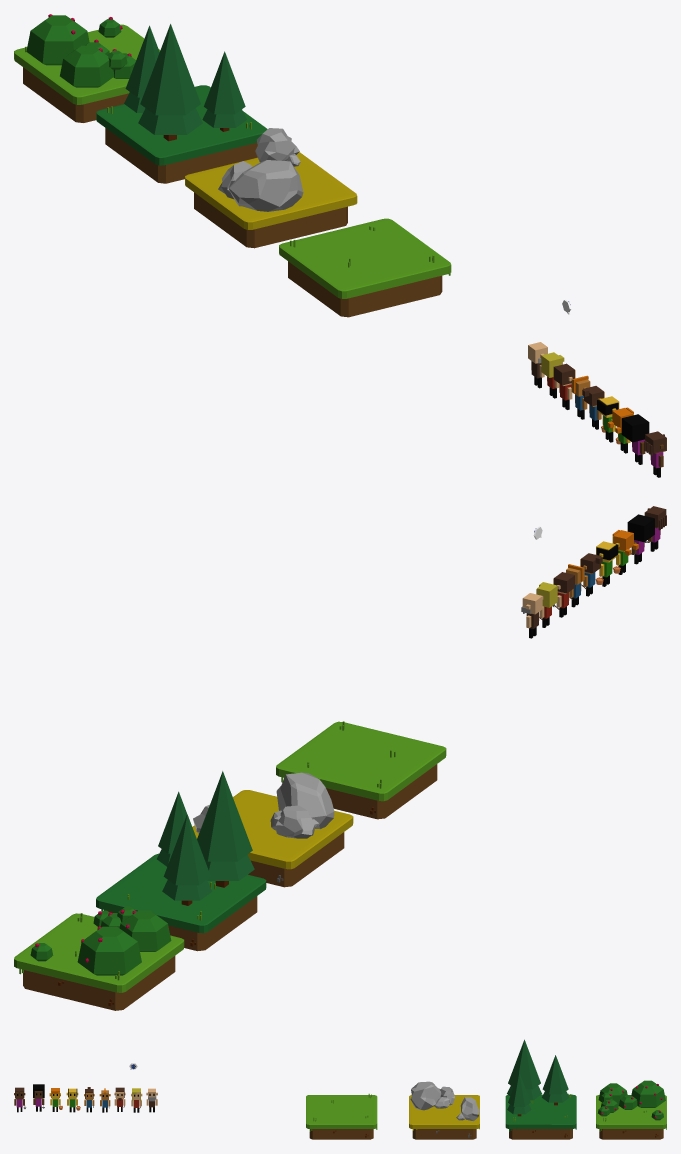
File: emotes-working.fbx
The picture shows the model from 3 angles, top to bottom: view 1: azimuth 30°, elevation 25°; view 2: azimuth 150°, elevation 25°; view 3: azimuth 270°, elevation 25°; orthographic projection. The views are drawn at different scales.
Visible parts, largest first — view 1: Tile 1.005, Cube.141, Cube.117, Cube.182, Cube.082, Cube.105; view 2: Tile 1.005, Cube.182, Cube.117, Cube.141, Cube.082; view 3: Tile 1.005, Cube.182, Cube.141, Cube.117, Cube.082, Cube.058, Cube.105, Cube.010, Cube.002, Cube.109, Cube.053, Cube.041 (+1 smaller).
Boxes of the visible parts, left/top/right/bottom form: Tile 1.005: left=96, top=24, right=267, bottom=183; Cube.141: left=185, top=128, right=357, bottom=248; Cube.117: left=279, top=218, right=451, bottom=317; Cube.182: left=14, top=14, right=160, bottom=122; Cube.082: left=621, top=414, right=649, bottom=464; Cube.105: left=644, top=431, right=666, bottom=477; Tile 1.005: left=96, top=771, right=266, bottom=951; Cube.182: left=14, top=906, right=184, bottom=1010; Cube.117: left=276, top=721, right=446, bottom=819; Cube.141: left=192, top=772, right=353, bottom=887; Cube.082: left=627, top=514, right=654, bottom=564; Tile 1.005: left=505, top=1039, right=576, bottom=1139; Cube.182: left=596, top=1080, right=666, bottom=1139; Cube.141: left=409, top=1081, right=479, bottom=1139; Cube.117: left=306, top=1093, right=377, bottom=1139; Cube.082: left=33, top=1084, right=44, bottom=1111; Cube.058: left=66, top=1088, right=80, bottom=1112; Cube.105: left=14, top=1087, right=26, bottom=1112; Cube.010: left=114, top=1087, right=125, bottom=1111; Cube.002: left=49, top=1088, right=62, bottom=1111; Cube.109: left=131, top=1088, right=142, bottom=1112; Cube.053: left=146, top=1088, right=157, bottom=1112; Cube.041: left=84, top=1087, right=94, bottom=1112.
Size of the model in its own units: 502 by 623 by 4594.
